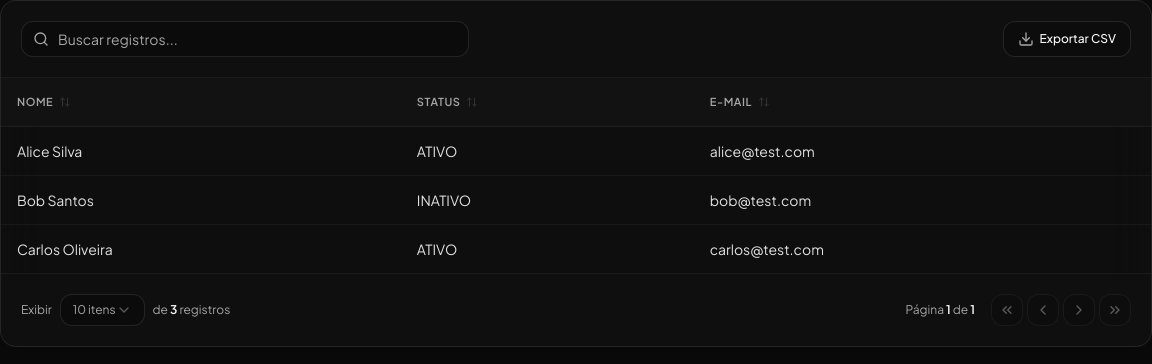
Test: DataTable › Filters data when typing in search input
Type "Alice" into the field with placeholder "Buscar registros..." at (245, 39), box [21,21,469,57]
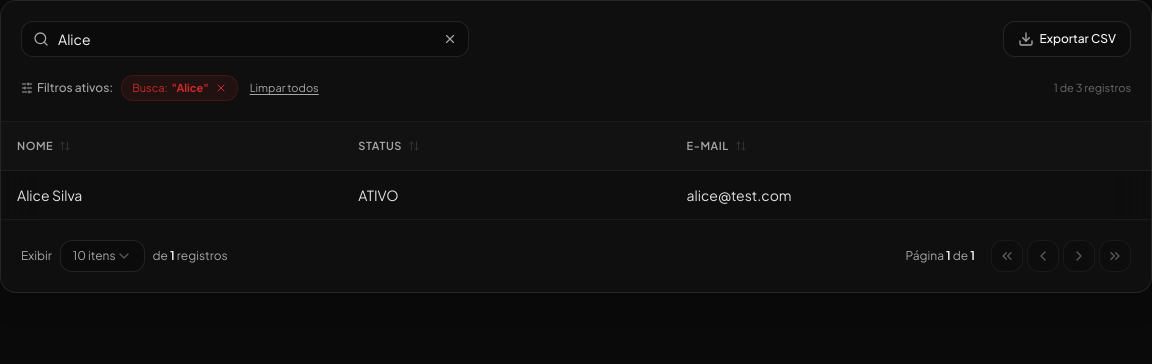
Expected: the text "Alice Silva" is shown, [1,170,342,219]
Result: the text "Bob Santos" is gone
